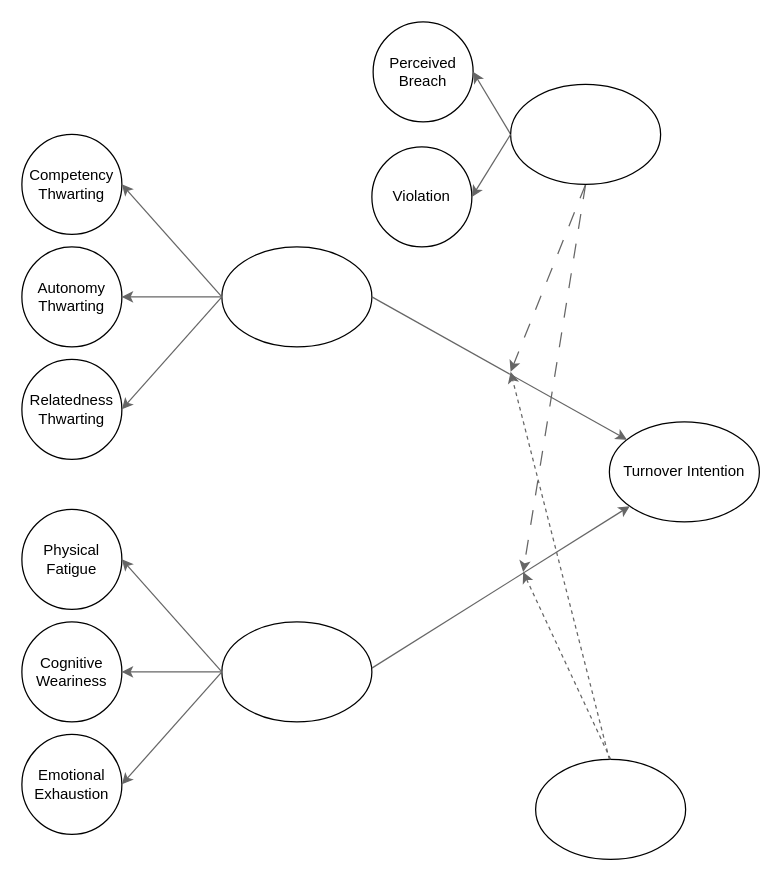
This 781x881 diagram has some shape labels left out. Each missing label, with the centre of its shape:
"Burnout" belongs at point 296,671.
"Job Satisfaction" belongs at point 610,808.
"Psychological Contract" belongs at point 585,133.
"Psychological Need Thwarting" belongs at point 296,296.
